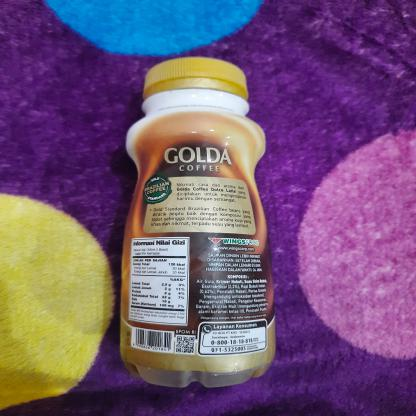bottle: (111, 54, 277, 393)
